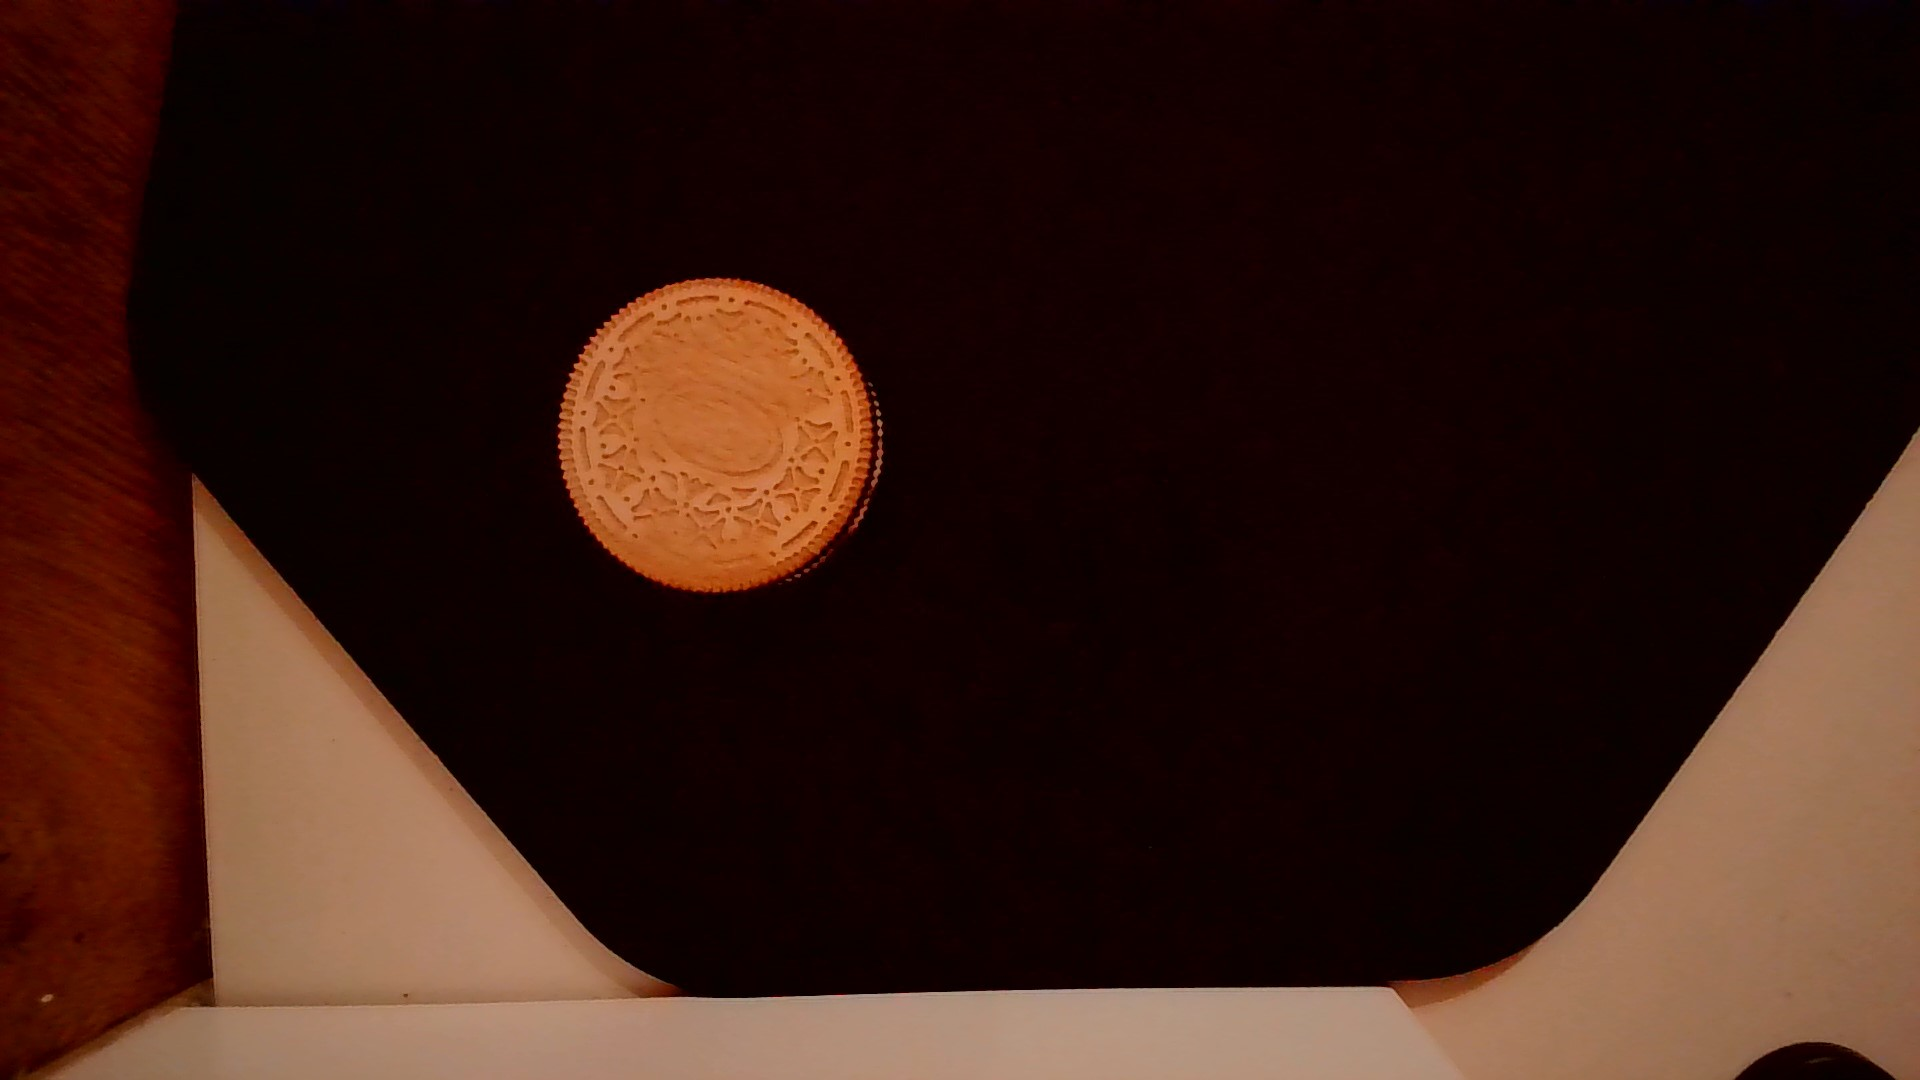Effacé: (641, 327, 800, 469), (618, 518, 774, 585)
Oréo: (547, 268, 891, 597)
